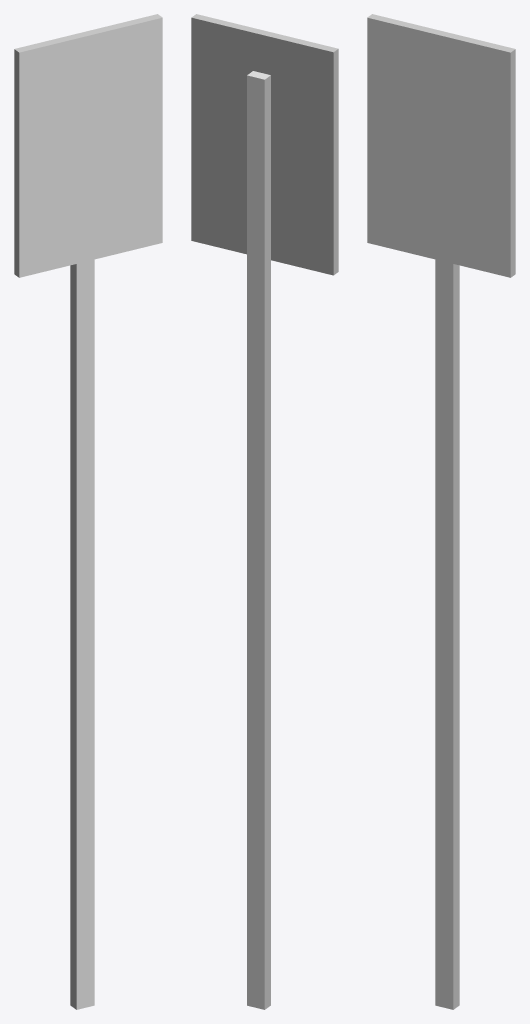
The model's file is dprop_streetSign.fbx.
3 renders of one model, left to right at view 1: azimuth 30°, elevation 25°; view 2: azimuth 150°, elevation 25°; view 3: azimuth 330°, elevation 25°, orthographic.
Visible parts, largest first — view 1: streetSign; view 2: streetSign; view 3: streetSign.
Part boxes in pixels (x1,y1,x2,y2): streetSign: [14, 14, 162, 1009]; streetSign: [191, 14, 338, 1009]; streetSign: [367, 14, 515, 1009].
Size of the model in its own units: 44.64 by 6.28 by 290.
